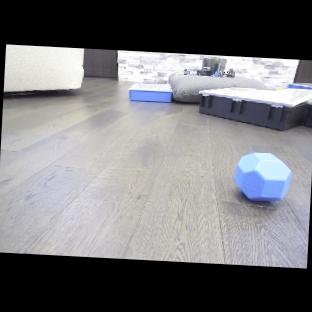V5_BLUE: (231, 149, 295, 207)
